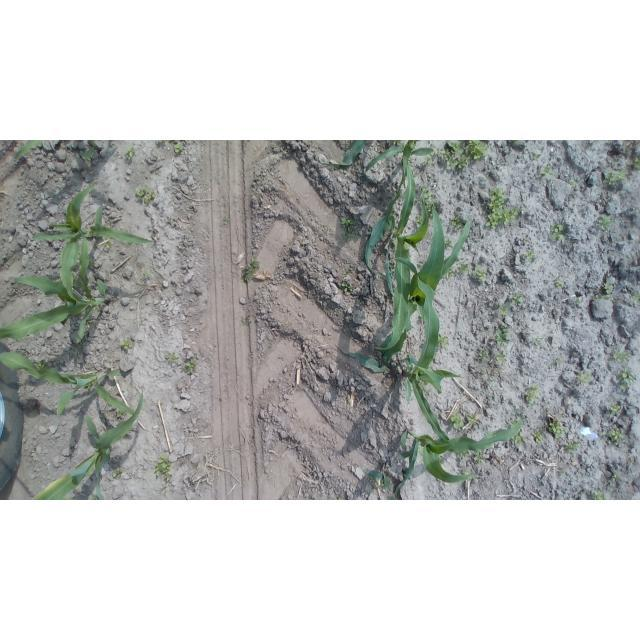Maize: (335, 206, 471, 375), (33, 182, 154, 307), (385, 257, 464, 439), (33, 390, 144, 500), (396, 406, 525, 500), (374, 155, 431, 351), (365, 141, 434, 296), (0, 352, 136, 416), (0, 276, 108, 344), (362, 468, 398, 500), (322, 140, 366, 166), (15, 140, 43, 161), (83, 140, 102, 158)
Weeds: (435, 140, 490, 170), (486, 186, 521, 231), (240, 257, 261, 283), (603, 167, 629, 187), (155, 453, 173, 481), (340, 216, 359, 241), (617, 367, 636, 392), (134, 185, 155, 206), (549, 418, 568, 440), (524, 385, 541, 408), (495, 322, 510, 346), (603, 428, 626, 443), (549, 222, 564, 242), (576, 371, 594, 386), (416, 184, 432, 200), (564, 438, 580, 454), (471, 263, 485, 281), (613, 348, 629, 363), (449, 413, 463, 430), (182, 358, 195, 375), (598, 214, 610, 232), (539, 165, 554, 179), (124, 144, 136, 161), (512, 431, 527, 444), (439, 332, 450, 348), (342, 281, 355, 294), (466, 411, 478, 425), (456, 261, 470, 273), (120, 338, 132, 351), (522, 249, 535, 261), (499, 302, 511, 315), (602, 282, 614, 295), (495, 350, 505, 365), (165, 350, 177, 362), (473, 452, 485, 464), (592, 492, 610, 500), (532, 430, 544, 442), (450, 216, 462, 228), (425, 201, 437, 212), (174, 140, 183, 154), (479, 349, 490, 360), (610, 402, 620, 414), (596, 294, 613, 301), (113, 466, 122, 479), (459, 451, 469, 462), (631, 291, 640, 303), (633, 155, 640, 170), (556, 277, 564, 290), (374, 478, 383, 489), (533, 336, 544, 345), (415, 216, 422, 229), (512, 294, 522, 303), (241, 317, 252, 325), (446, 267, 454, 278), (37, 360, 49, 367), (143, 269, 150, 280), (393, 141, 406, 146), (569, 180, 577, 188), (556, 358, 564, 366), (462, 467, 471, 474), (445, 239, 452, 248), (575, 297, 582, 306), (157, 486, 167, 492), (544, 401, 550, 411), (342, 268, 350, 275), (416, 261, 425, 267), (486, 379, 492, 388), (106, 242, 113, 249), (223, 217, 229, 225), (424, 157, 432, 163), (532, 153, 540, 159), (117, 411, 124, 417), (337, 495, 345, 500), (157, 141, 169, 144), (612, 474, 617, 481), (510, 420, 517, 425), (523, 238, 528, 244), (630, 457, 635, 462), (482, 369, 487, 374), (487, 398, 492, 402), (513, 140, 518, 144), (429, 389, 432, 395), (369, 475, 373, 479)
